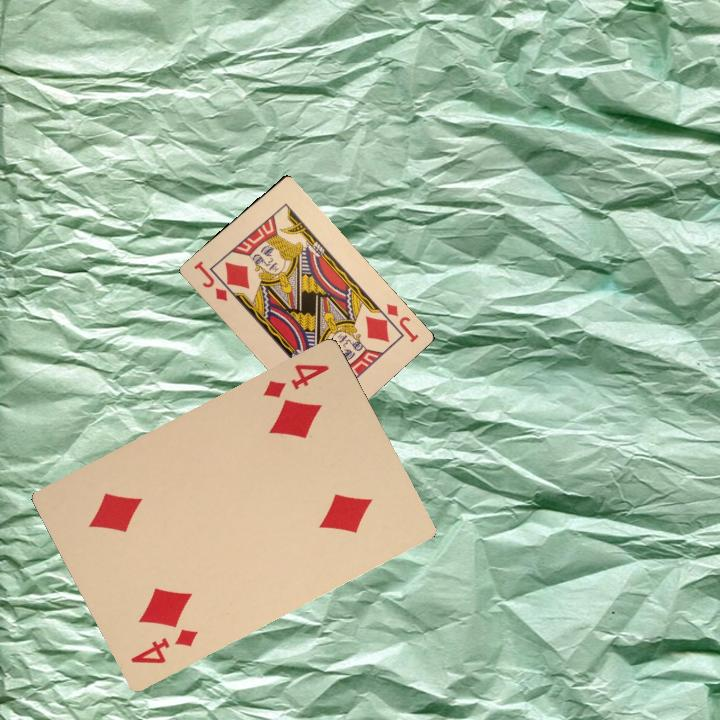4d: (126, 624, 201, 667), (259, 359, 332, 401)
Jd: (190, 257, 230, 304), (382, 299, 421, 345)
